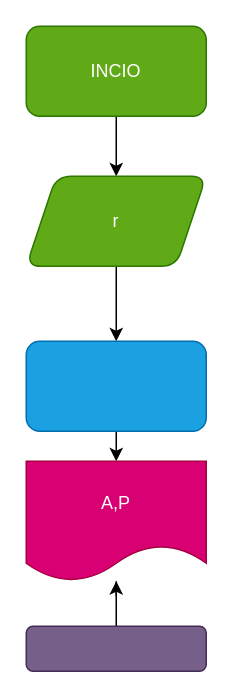
This 233x698 diagram has some shape labels left out. Here are the shapes that lost their labels. From the top down, the centre of each, then its label:
At [115,385]: "A=pi *r **2 P=2*pi*r".
At [115,648]: "FIN".
